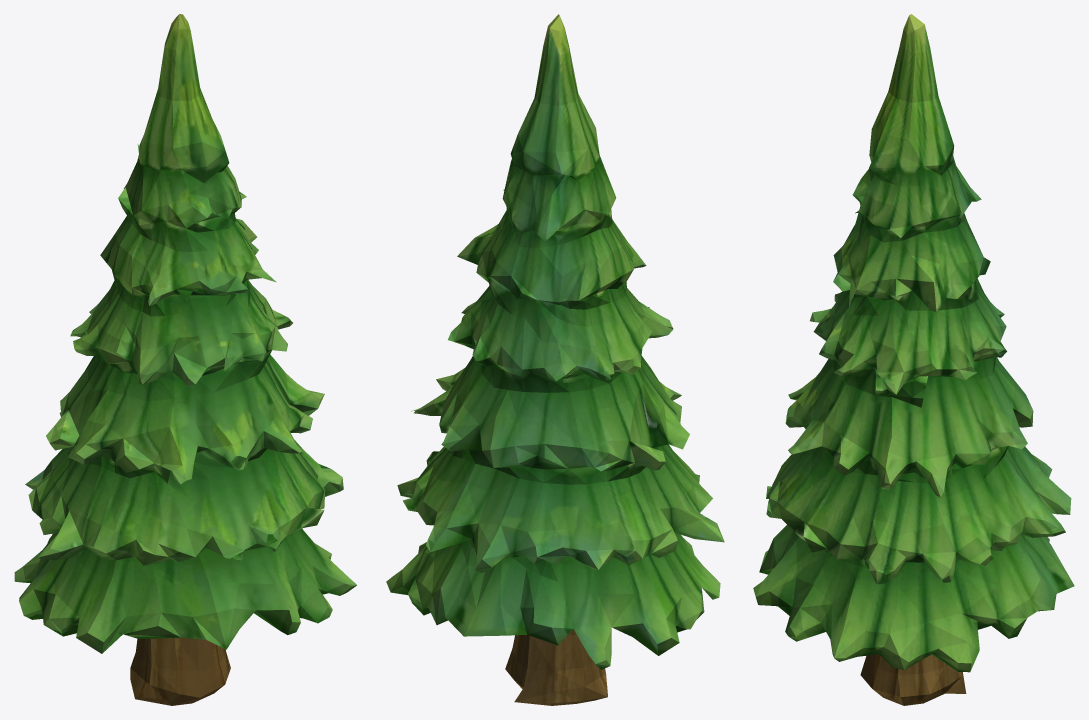
The model's file is Tree5.glb.
The picture shows the model from 3 angles, left to right: view 1: azimuth 30°, elevation 25°; view 2: azimuth 150°, elevation 25°; view 3: azimuth 270°, elevation 25°; orthographic projection.
Parts seen in each view (by area): view 1: tripo_node_56f3d3fc-41d4-479d-a2f2-a57e836636cc; view 2: tripo_node_56f3d3fc-41d4-479d-a2f2-a57e836636cc; view 3: tripo_node_56f3d3fc-41d4-479d-a2f2-a57e836636cc.
Boxes of the visible parts, box(x1,y1,x2,y2) form: tripo_node_56f3d3fc-41d4-479d-a2f2-a57e836636cc: box(14, 14, 356, 705); tripo_node_56f3d3fc-41d4-479d-a2f2-a57e836636cc: box(386, 14, 724, 705); tripo_node_56f3d3fc-41d4-479d-a2f2-a57e836636cc: box(753, 14, 1074, 705).
Bounding box in the file's own units: 0.1674 × 0.3587 × 0.1551.
1 material, 1 textured.
